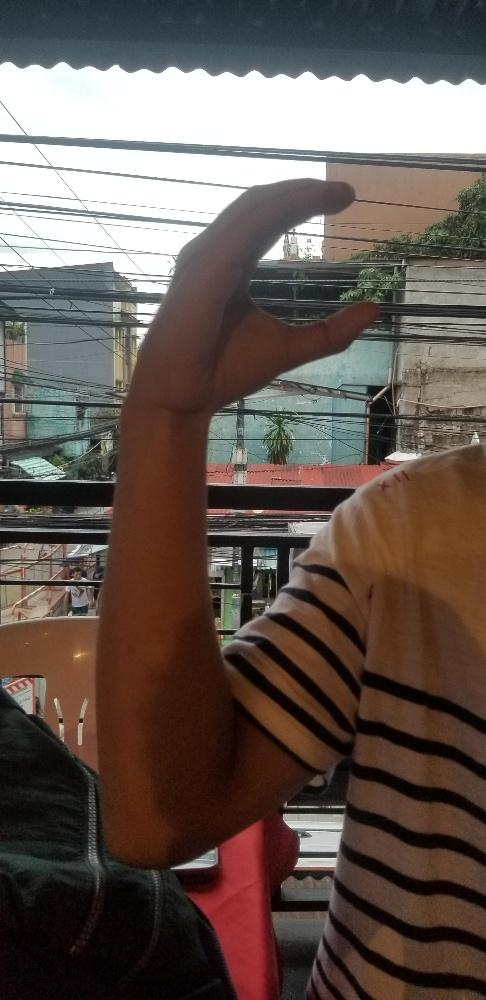c: (124, 176, 381, 410)
